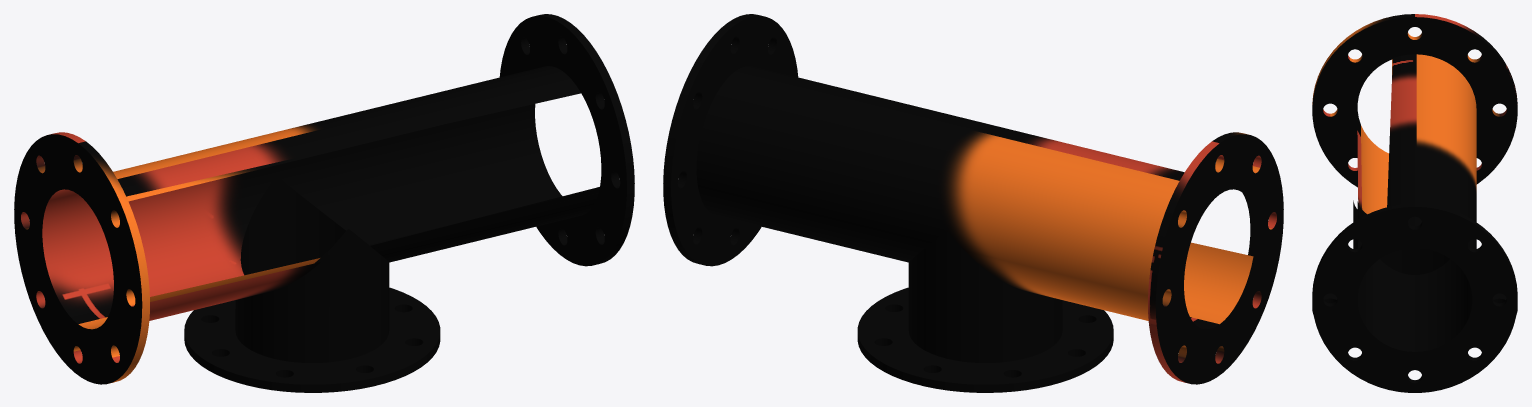
File: kataz.fbx
The picture shows the model from 3 angles, left to right: view 1: azimuth 30°, elevation 25°; view 2: azimuth 150°, elevation 25°; view 3: azimuth 270°, elevation 25°; orthographic projection. The views are drawn at different scales.
Visible parts, largest first — view 1: Второй блок\Потрубок прямая; view 2: Второй блок\Потрубок прямая; view 3: Второй блок\Потрубок прямая.
Part boxes in pixels (x1,y1,x2,y2): Второй блок\Потрубок прямая: (14, 14, 634, 392); Второй блок\Потрубок прямая: (663, 14, 1283, 392); Второй блок\Потрубок прямая: (1312, 14, 1517, 392).
Bounding box in the file's own units: 37734 × 18500 × 16995.
